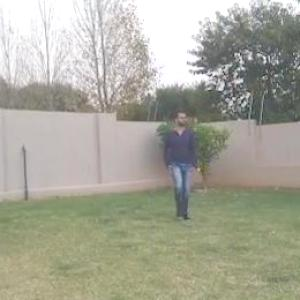follow: (167, 107, 198, 226)
